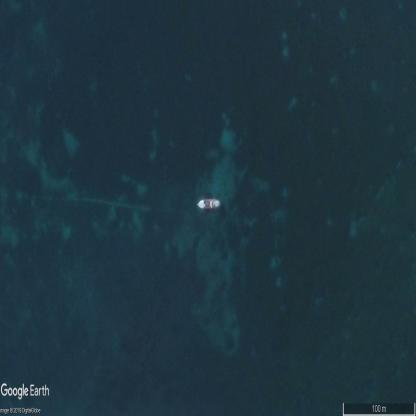ship: (198, 199, 220, 209)
